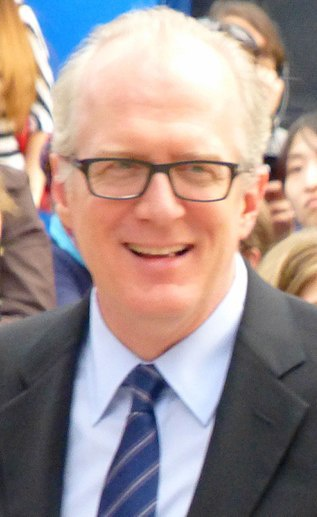bad: (43, 118, 266, 341)
